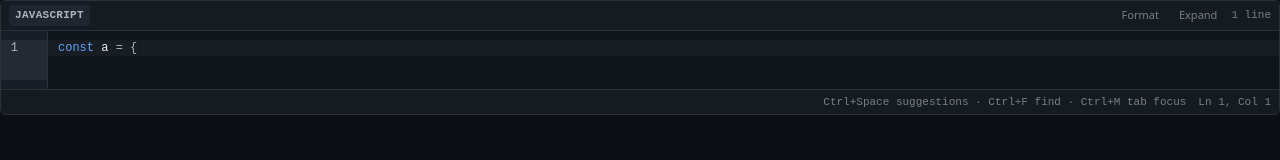
Test: CodeEditor › announces a parse failure instead of rewriting
Click the button "Format" at point(1140, 15), box [1116, 5, 1165, 26]
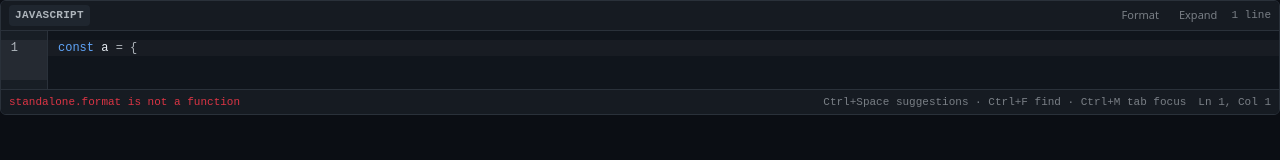
Expected: the text box labelled "const a = {" is shown, [48, 40, 1279, 56]
Expected: the message "standalone.format is not a function" is not empty, [9, 94, 240, 110]
